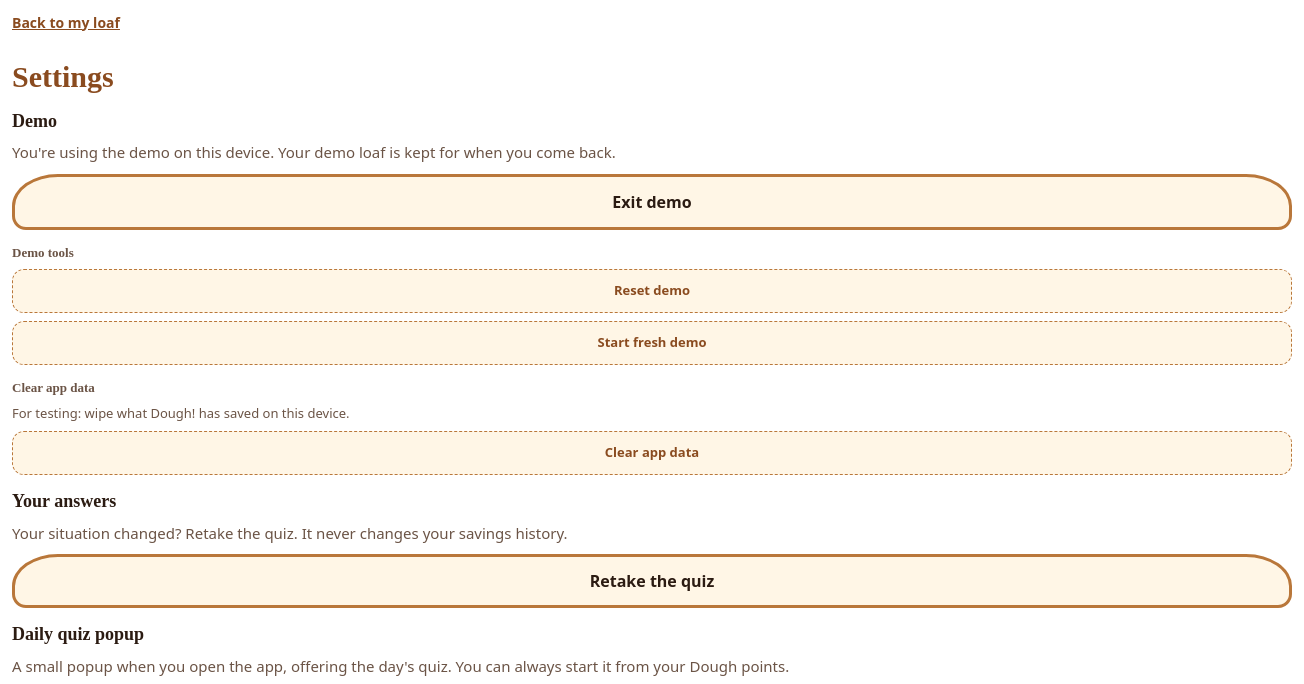
Scenario: Clear app data in Settings › does not reload when something could not be cleared, and says so
The image size is (1304, 684).
Click the button "Clear app data" at (652, 453), box [12,431,1292,475]
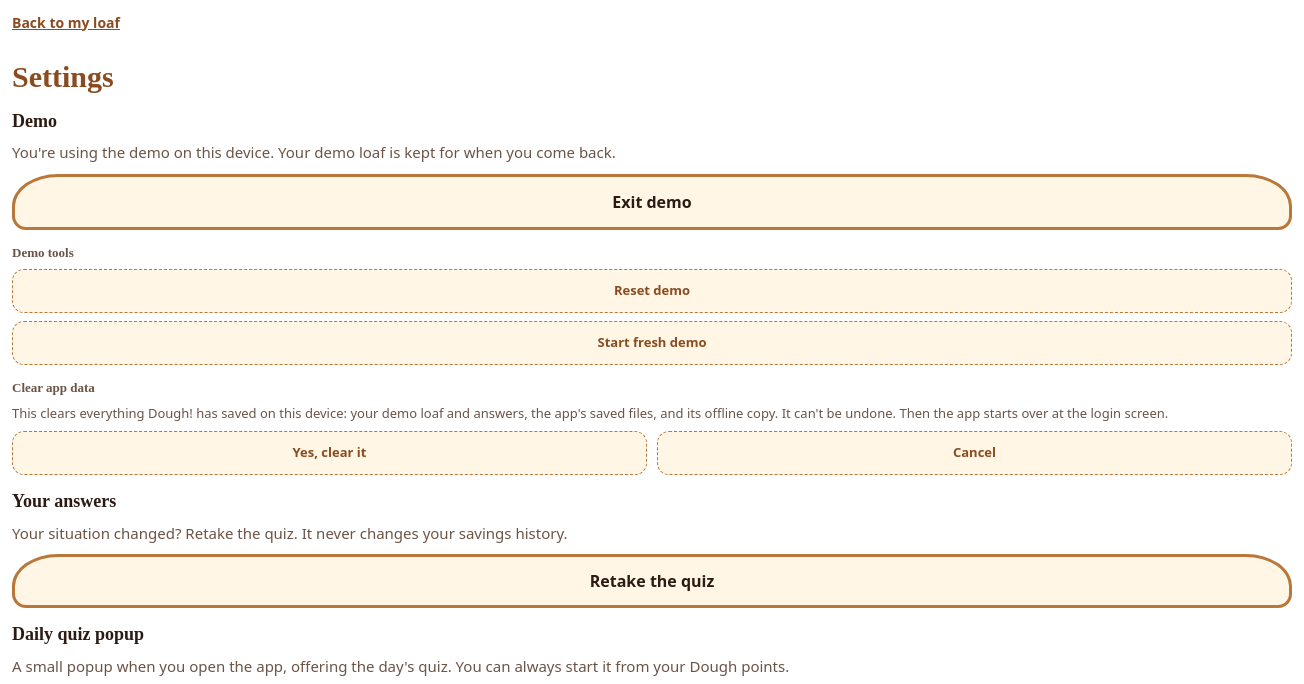
Click the button "Yes, clear it" at (330, 453), box [12,431,647,475]
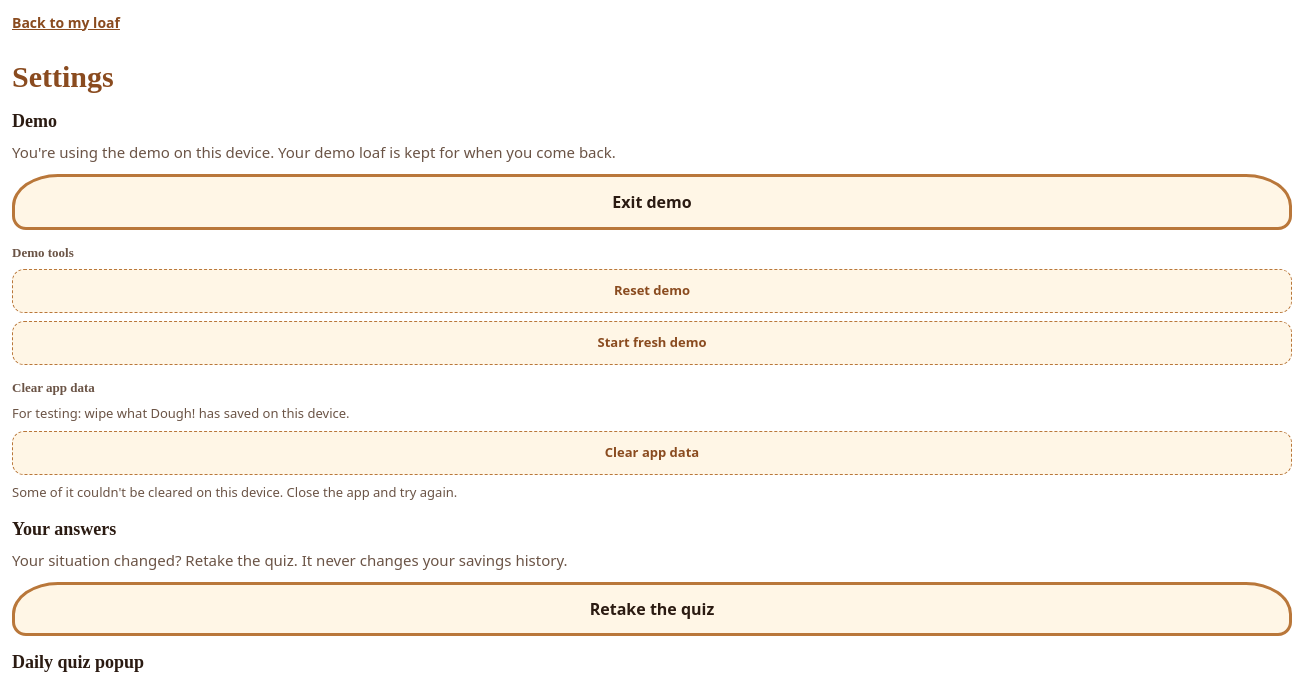
Now the message shows "couldn't be cleared", box [12,483,457,501]
